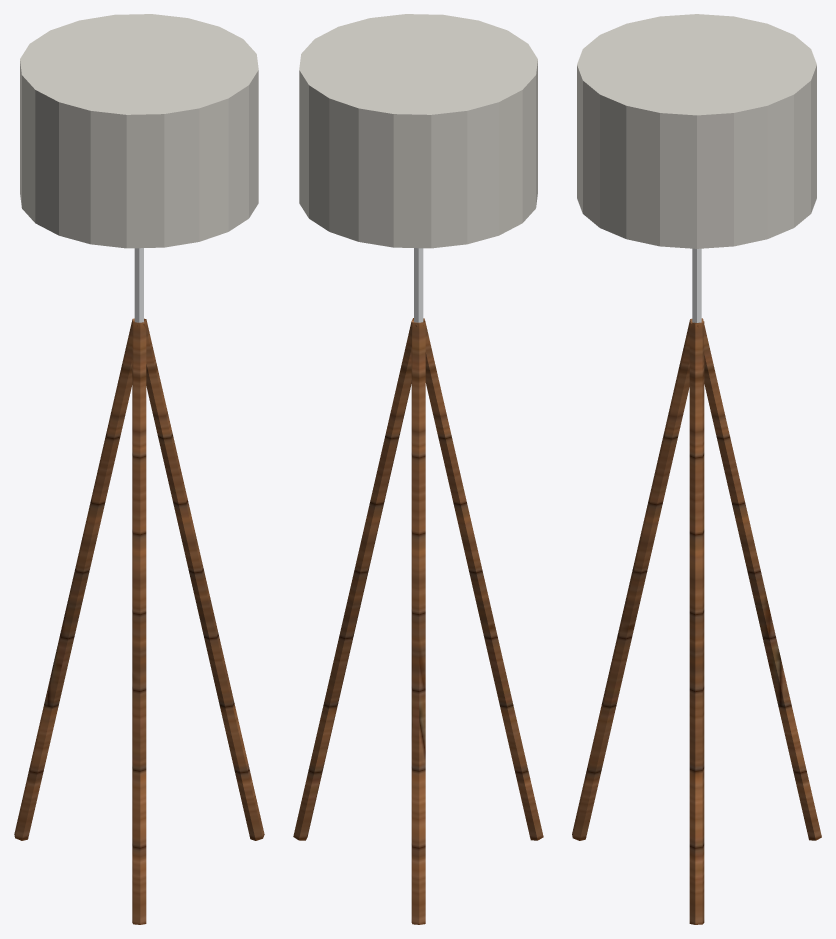
The model's file is floor_lamp.glb.
3 renders of one model, left to right at view 1: azimuth 30°, elevation 25°; view 2: azimuth 150°, elevation 25°; view 3: azimuth 270°, elevation 25°, orthographic.
Parts seen in each view (by area): view 1: floor_lamp_cream, floor_lamp_teak, floor_lamp_chrome; view 2: floor_lamp_cream, floor_lamp_teak, floor_lamp_chrome; view 3: floor_lamp_cream, floor_lamp_teak, floor_lamp_chrome.
Part boxes in pixels (x1,y1,x2,y2): floor_lamp_cream: [20, 14, 258, 248]; floor_lamp_teak: [14, 318, 264, 924]; floor_lamp_chrome: [134, 248, 143, 322]; floor_lamp_cream: [299, 14, 537, 248]; floor_lamp_teak: [293, 318, 543, 924]; floor_lamp_chrome: [414, 248, 423, 322]; floor_lamp_cream: [577, 14, 816, 248]; floor_lamp_teak: [572, 318, 821, 924]; floor_lamp_chrome: [692, 248, 701, 322].
Size of the model in its own units: 0.4833 by 1.62 by 0.4582.
3 materials, 1 textured.
